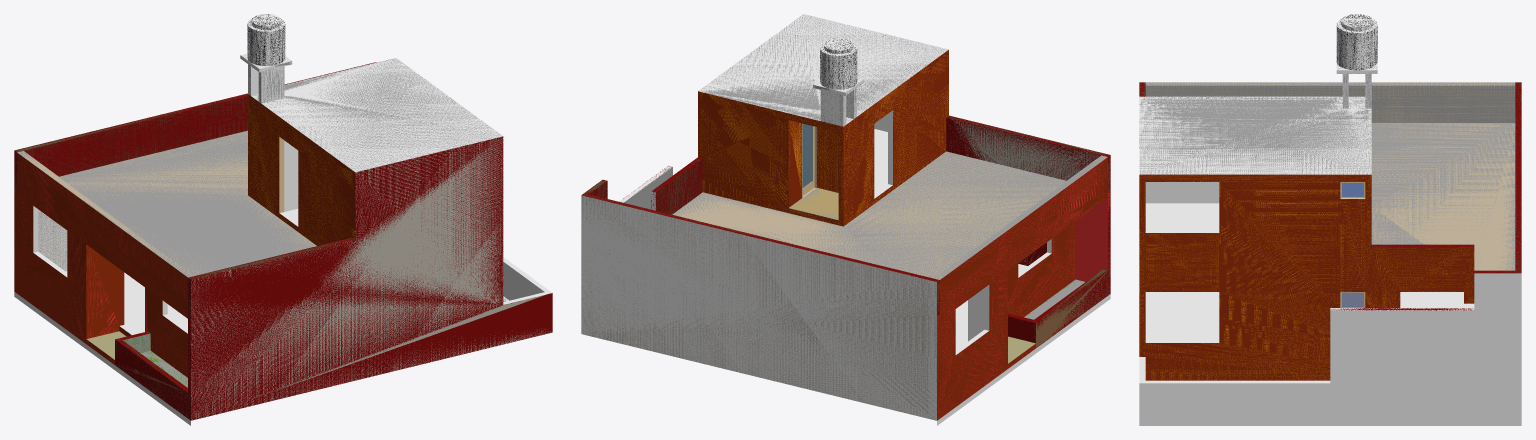
Rendered from Casa Pueblo 1.fbx.
3 renders of one model, left to right at view 1: azimuth 30°, elevation 25°; view 2: azimuth 150°, elevation 25°; view 3: azimuth 270°, elevation 25°, orthographic. The views are drawn at different scales.
Visible parts, largest first — view 1: Model; view 2: Model; view 3: Model.
Boxes of the visible parts, bbox=[...] form: Model: bbox=[14, 14, 552, 425]; Model: bbox=[581, 14, 1110, 425]; Model: bbox=[1139, 14, 1521, 425].
Bounding box in the file's own units: 11 × 8.4 × 9.3.
